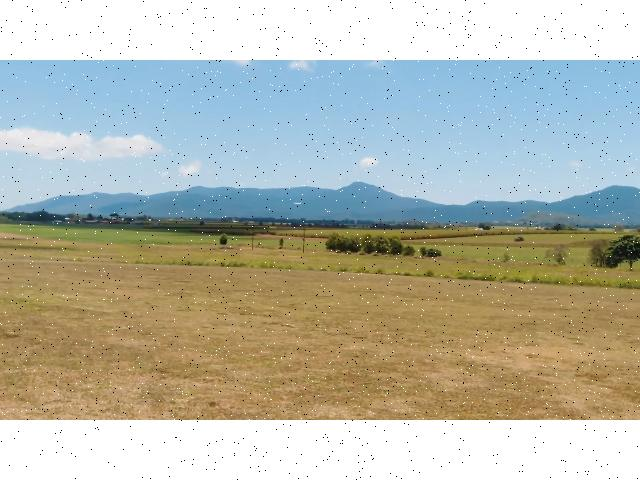Anti-Drone: (288, 196, 308, 208)
